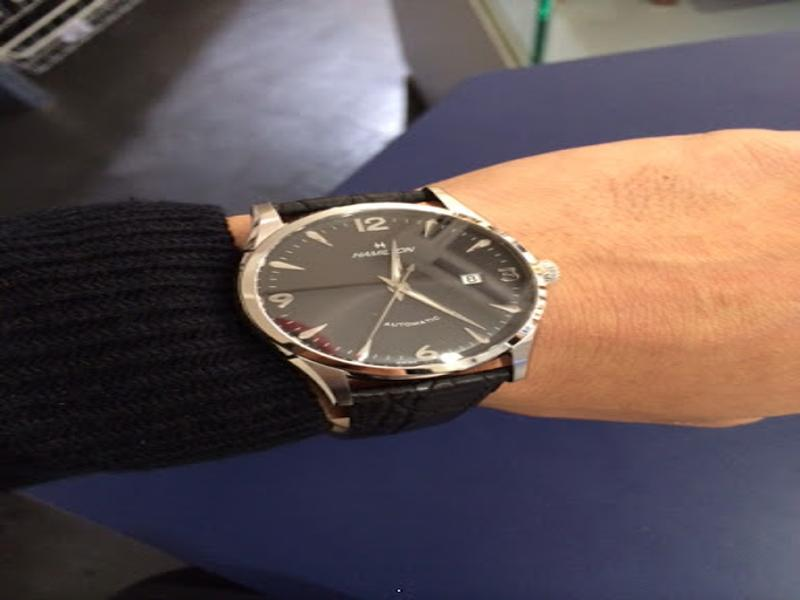watch: (237, 182, 563, 448)
